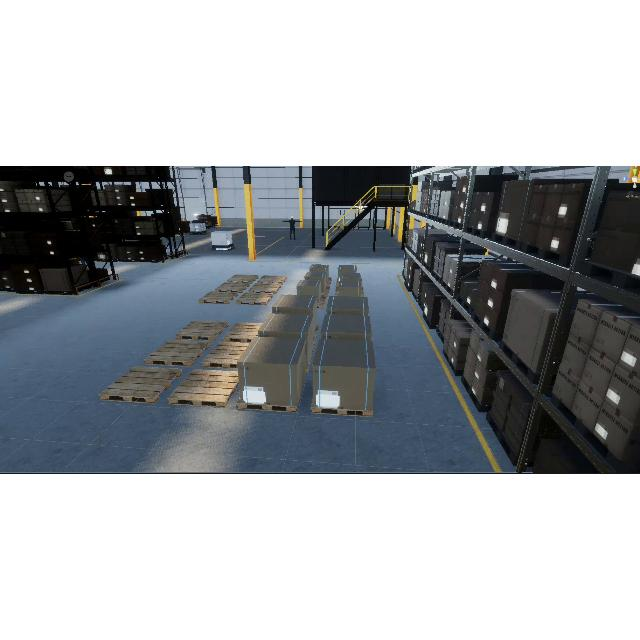wooden_pallet: (98, 366, 183, 403), (167, 368, 238, 408), (143, 339, 210, 366), (201, 342, 250, 369), (174, 319, 229, 340), (222, 323, 263, 342), (236, 402, 297, 413), (311, 408, 374, 417), (199, 291, 239, 304), (236, 293, 274, 305), (215, 282, 250, 293), (248, 283, 282, 294), (226, 274, 259, 284), (257, 275, 287, 285)
